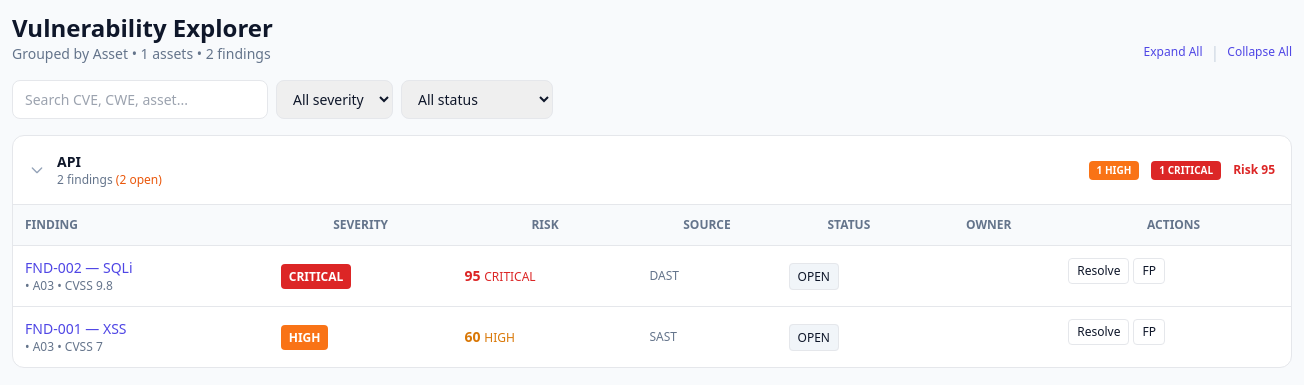
Test: Findings › expand all and collapse all
The width and height of the screenshot is (1304, 385).
Expected: the link "FND-001 — XSS" is shown, x1=25 y1=319 x2=126 y2=338
Click the button "Collapse All": (1260, 52) x1=1227 y1=44 x2=1292 y2=60
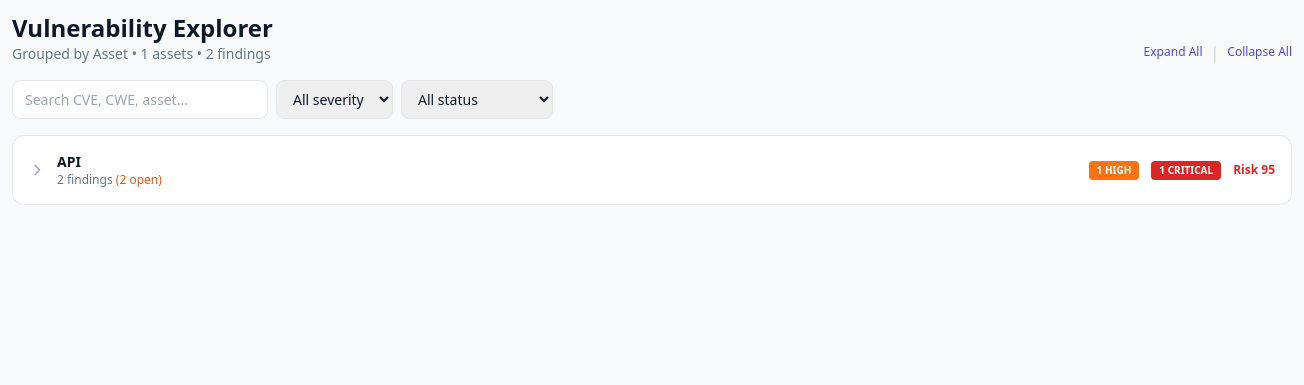
Result: the link "FND-001 — XSS" is gone
Click the button "Expand All": (1173, 52) x1=1144 y1=44 x2=1202 y2=60
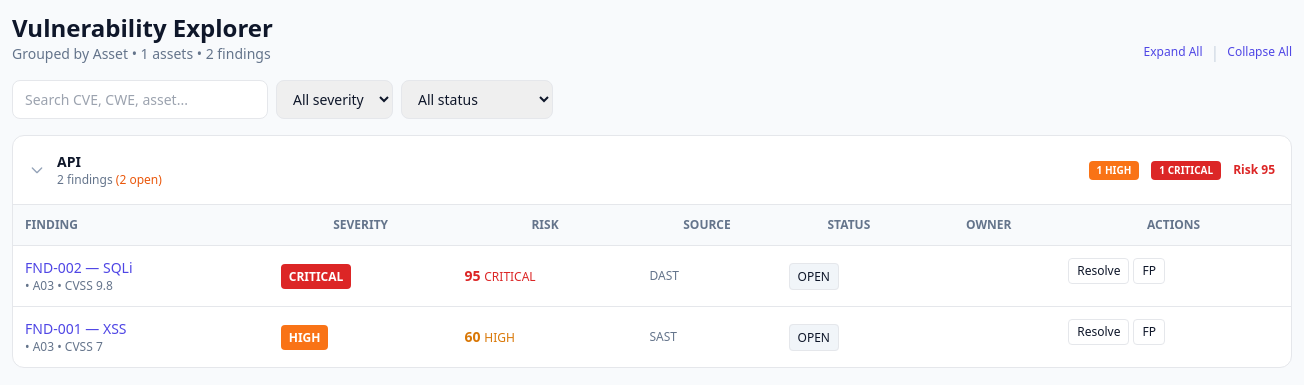
Result: the link "FND-001 — XSS" is shown at x1=25 y1=319 x2=126 y2=338
